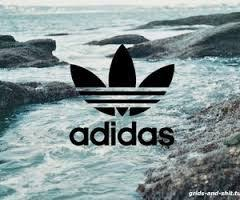adidas: (65, 42, 177, 148)
